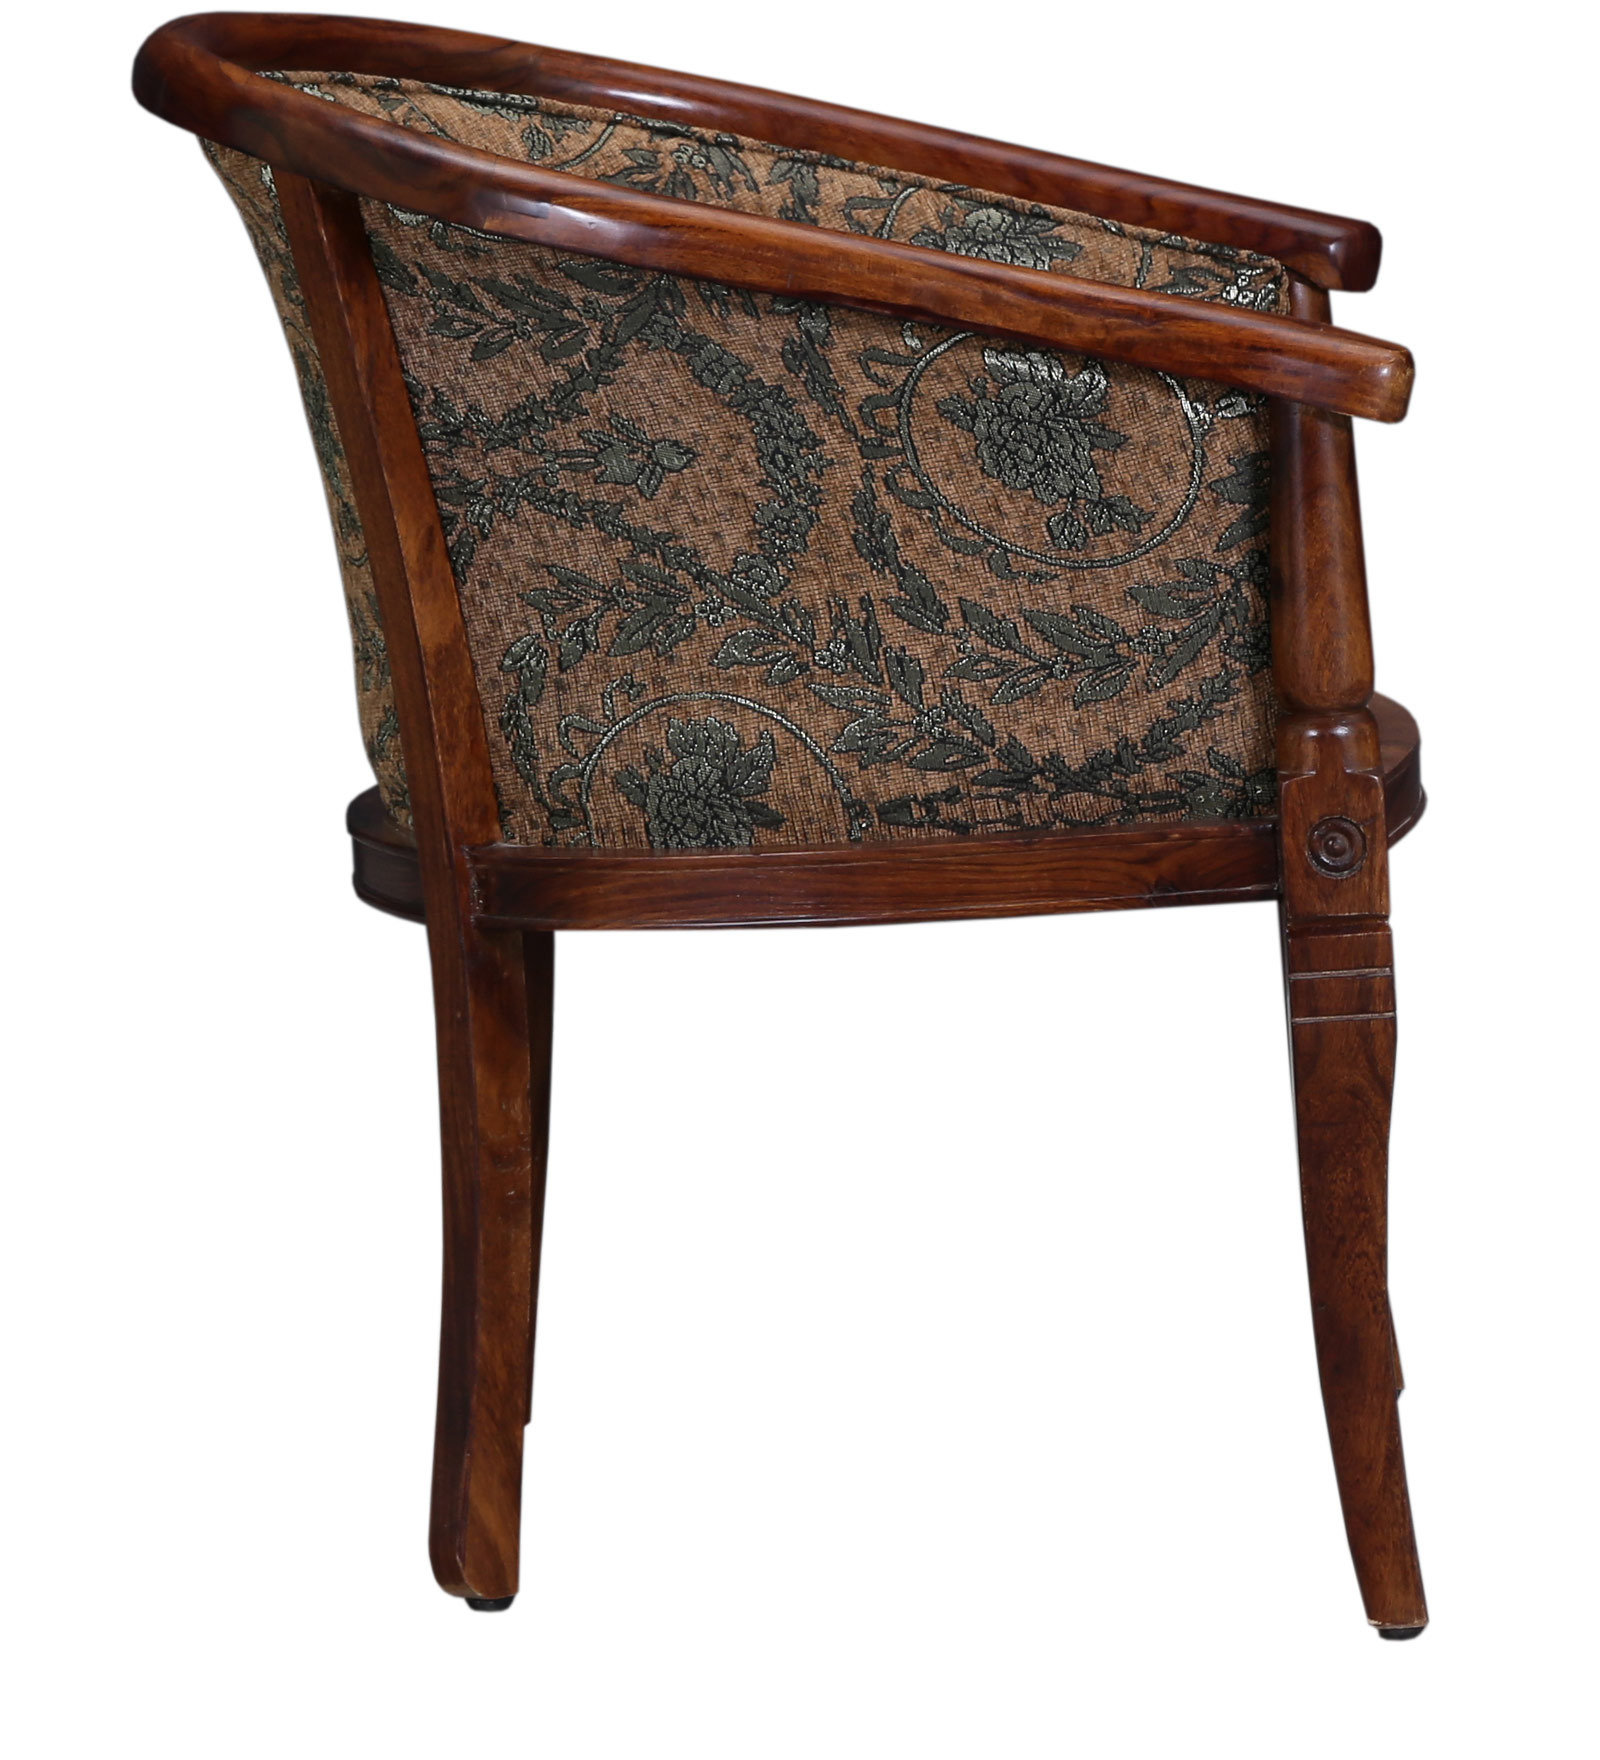Stalley Arm Chair in Honey Oak Finish by Amberville: (103, 23, 1505, 1665)
